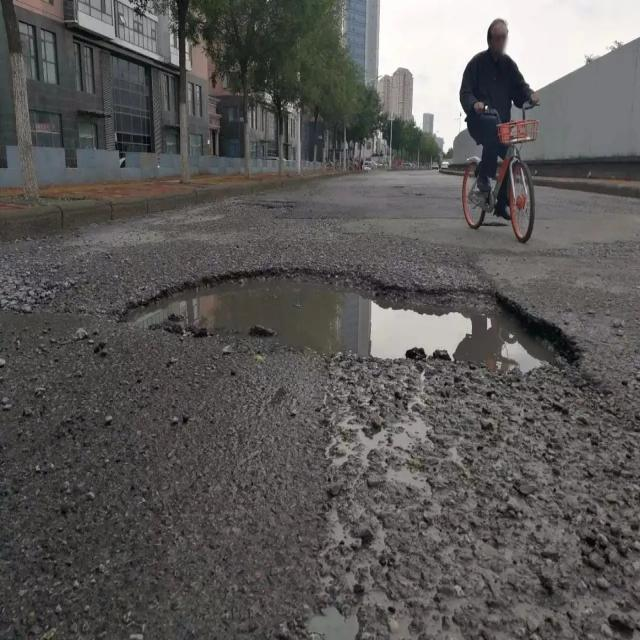Pothole: (105, 263, 583, 390)
